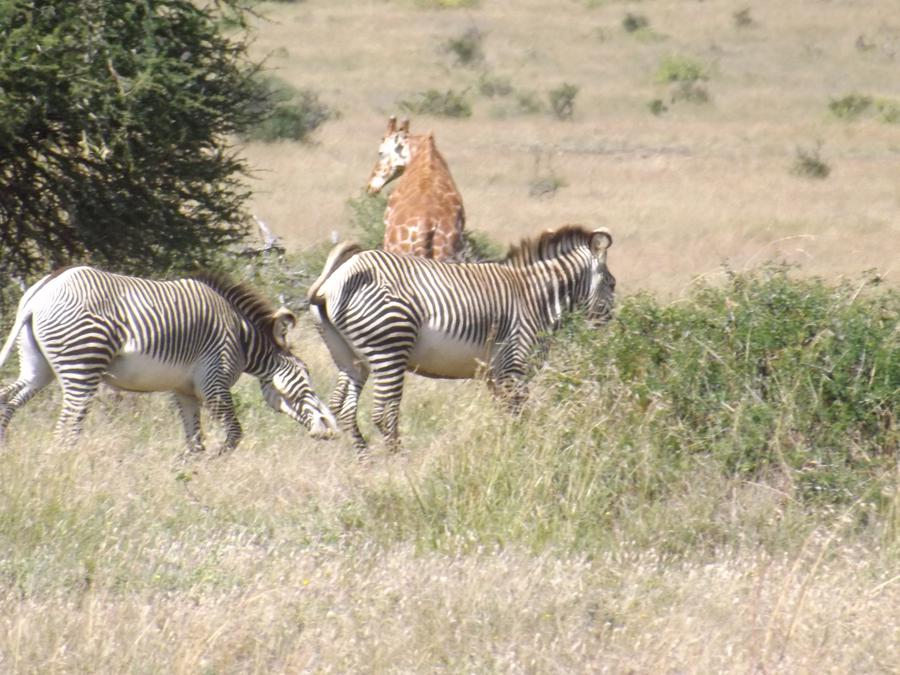zebra_grevys: (324, 228, 547, 369)
